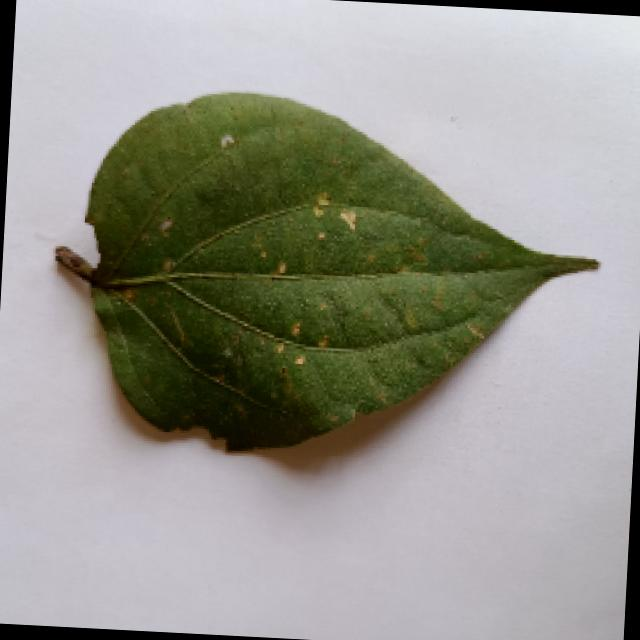pollu-disease: (40, 80, 609, 482)
